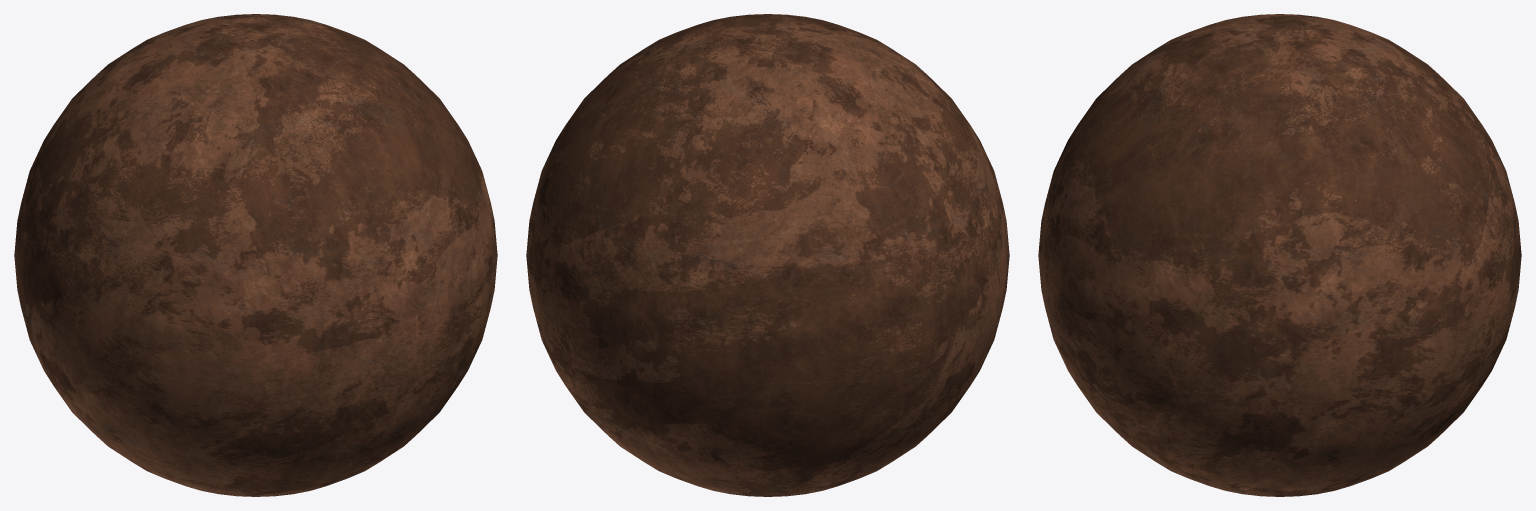
The model's file is marslike.glb.
3 renders of one model, left to right at view 1: azimuth 30°, elevation 25°; view 2: azimuth 150°, elevation 25°; view 3: azimuth 270°, elevation 25°, orthographic.
Visible parts, largest first — view 1: planet_barren_8.002; view 2: planet_barren_8.002; view 3: planet_barren_8.002.
Part boxes in pixels (x1=…): planet_barren_8.002: x1=14, y1=14, x2=497, y2=496; planet_barren_8.002: x1=526, y1=14, x2=1009, y2=496; planet_barren_8.002: x1=1038, y1=14, x2=1521, y2=496.
Bounding box in the file's own units: 2 × 2 × 2.
1 material, 1 textured.
